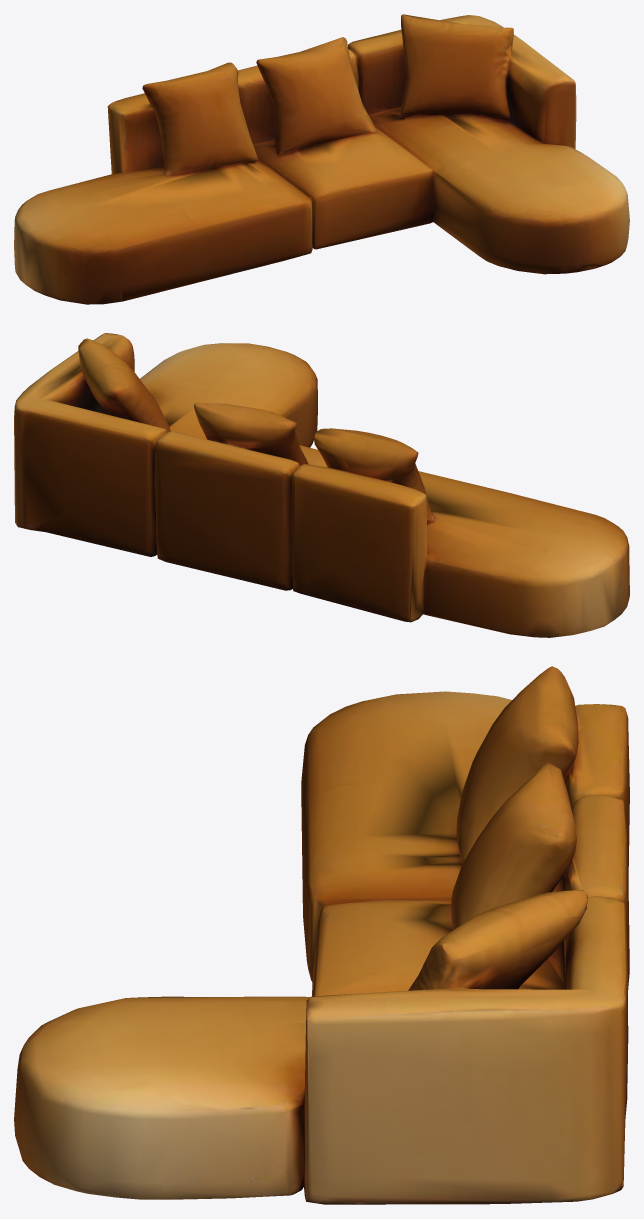
The picture shows the model from 3 angles, top to bottom: view 1: azimuth 30°, elevation 25°; view 2: azimuth 150°, elevation 25°; view 3: azimuth 270°, elevation 25°; orthographic projection. The views are drawn at different scales.
Visible parts, largest first — view 1: geometry_0; view 2: geometry_0; view 3: geometry_0.
Part boxes in pixels (left/top/right/bottom): geometry_0: left=14, top=14, right=629, bottom=304; geometry_0: left=14, top=333, right=629, bottom=637; geometry_0: left=14, top=666, right=629, bottom=1204.
Bounding box in the file's own units: 0.9984 × 0.2654 × 0.6092.
Materials: 1 (1 with a texture image).
